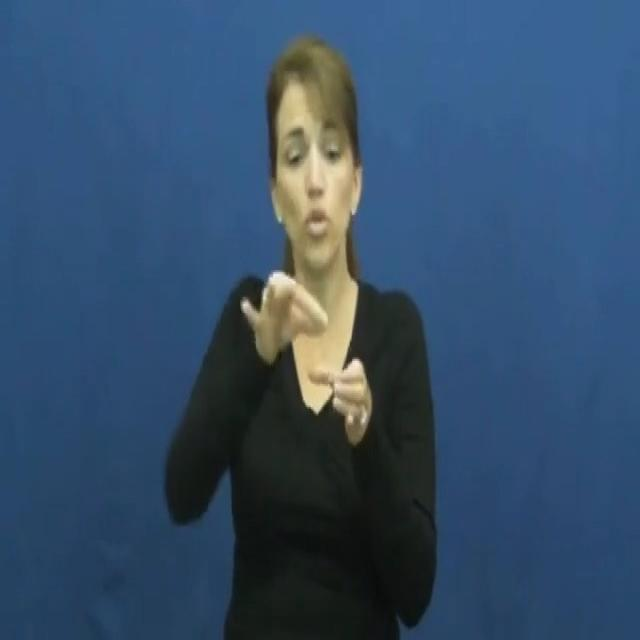straw: (226, 257, 388, 478)
